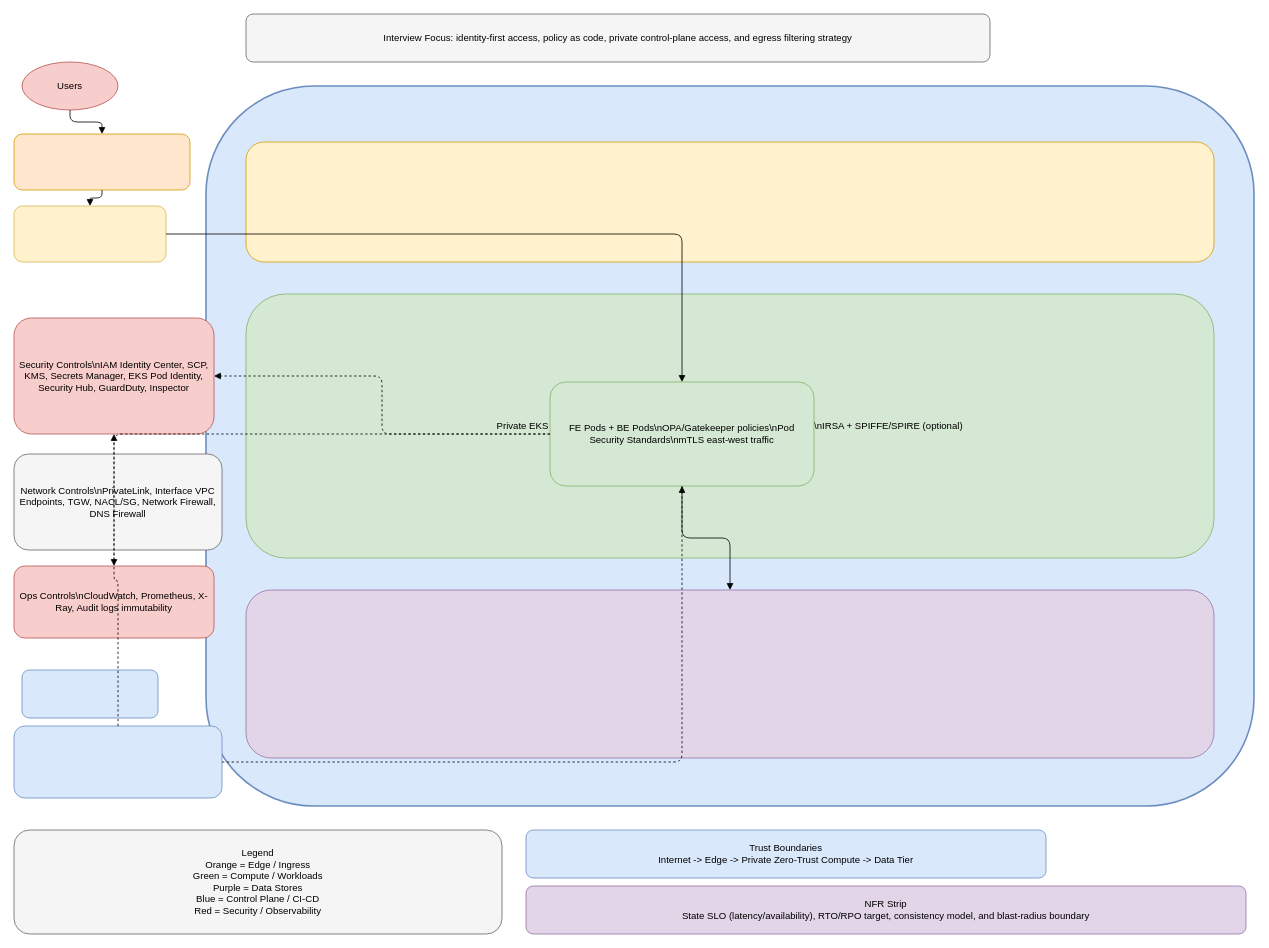
Image size: 1269x948. Some labels were removed from this diagram. The shapes that lost their labels are listed below. From the top down, each one's centre as x and y in pixels, then its label:
the point at 101,161: Global Accelerator/Route53
the point at 729,201: Ingress VPC Edge\nNLB + AWS WAF + Shield + TLS mTLS
the point at 89,233: CloudFront + WAF
the point at 89,693: GitHub Monorepo
the point at 729,673: Private Data Tier\nAurora + Redis + MSK
the point at 117,761: GitHub Actions\nPolicy checks + image signing + admission controls
